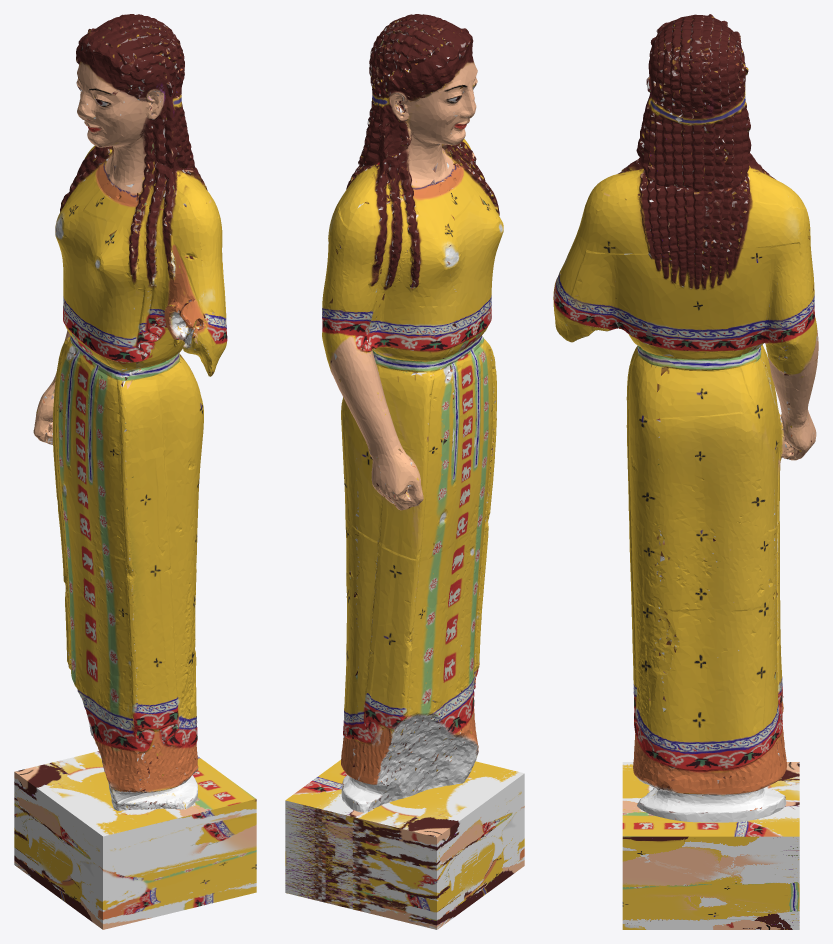
The model's file is PeploskoreBasis3.gltf.
The picture shows the model from 3 angles, left to right: view 1: azimuth 30°, elevation 25°; view 2: azimuth 150°, elevation 25°; view 3: azimuth 270°, elevation 25°; orthographic projection.
Visible parts, largest first — view 1: Fast fusion 1; view 2: Fast fusion 1; view 3: Fast fusion 1.
Boxes of the visible parts, x1,y1,x2,y2 form: Fast fusion 1: [14, 14, 256, 929]; Fast fusion 1: [285, 14, 524, 929]; Fast fusion 1: [553, 14, 818, 929].
Size of the model in its own units: 0.0357 by 0.1925 by 0.0534.
Materials: 1 (1 with a texture image).
